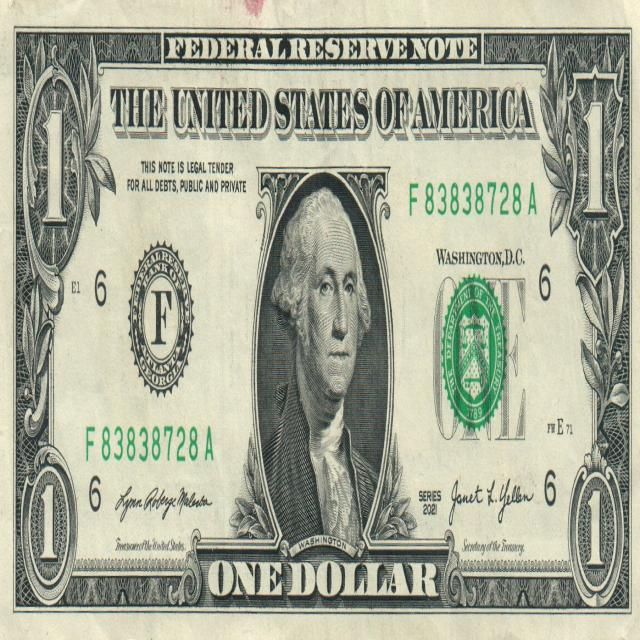SerialNumber: (86, 426, 202, 462), (424, 182, 536, 216)
